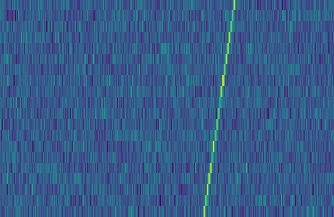signal: (200, 0, 241, 217)
